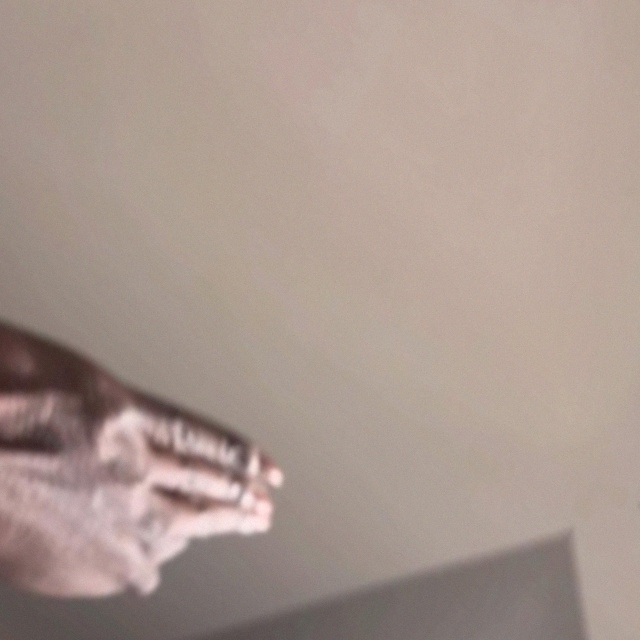Paper: (0, 0, 101, 53)
